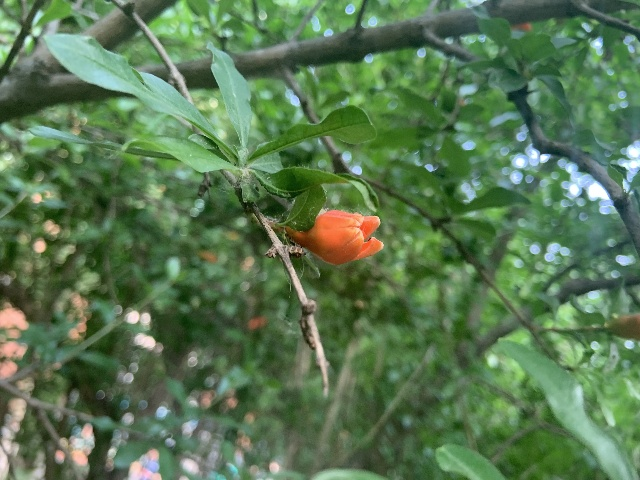flower: (289, 209, 383, 264)
